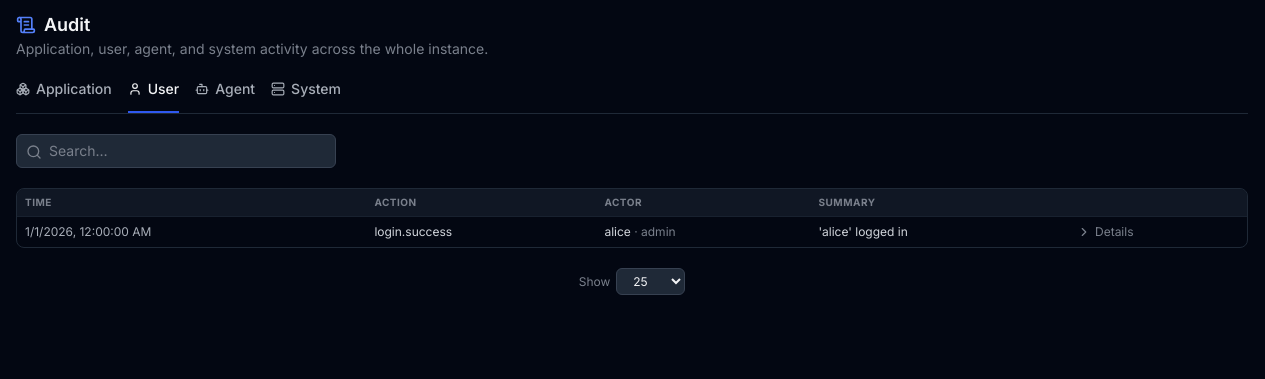
it: Audit — rendering events › expands and collapses the detail JSON
Expected: the text "login.success" is shown, [366,216,596,247]
Expected: the text "127.0.0.1" is not shown
Click the button with aria-label "show details" at (1105, 232), box [1077,223,1134,241]
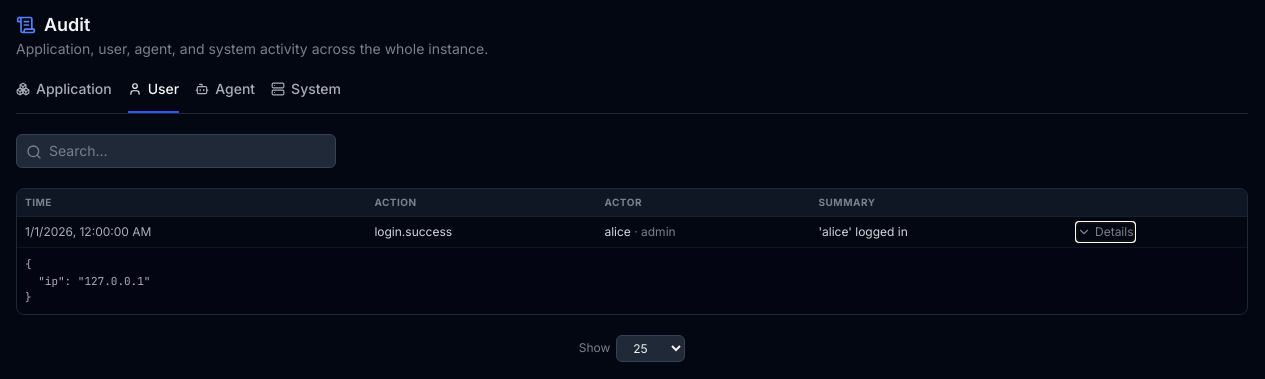
Now the text "{ \"ip\": \"127.0.0.1\" }" is shown, box [25,257,150,304]
Click the button with aria-label "hide details" at (1105, 232), box [1077,223,1134,241]
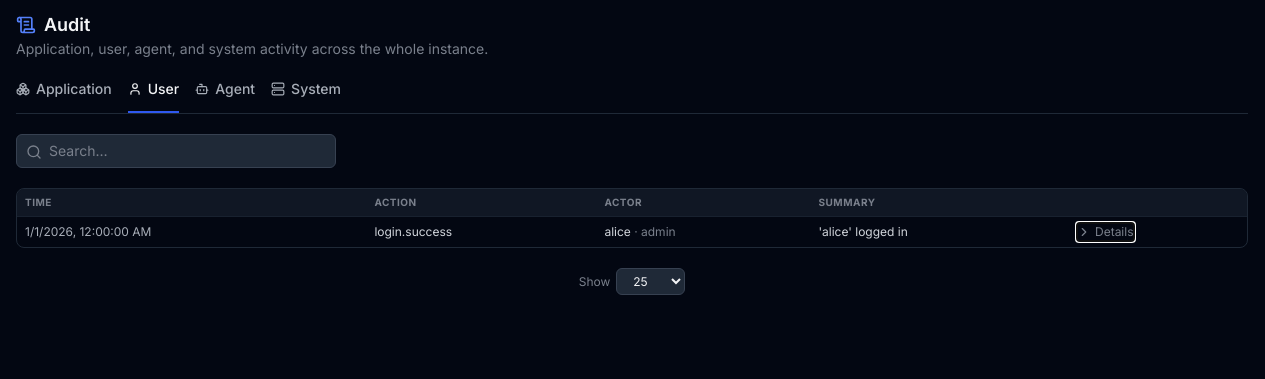
Now the text "127.0.0.1" is gone
